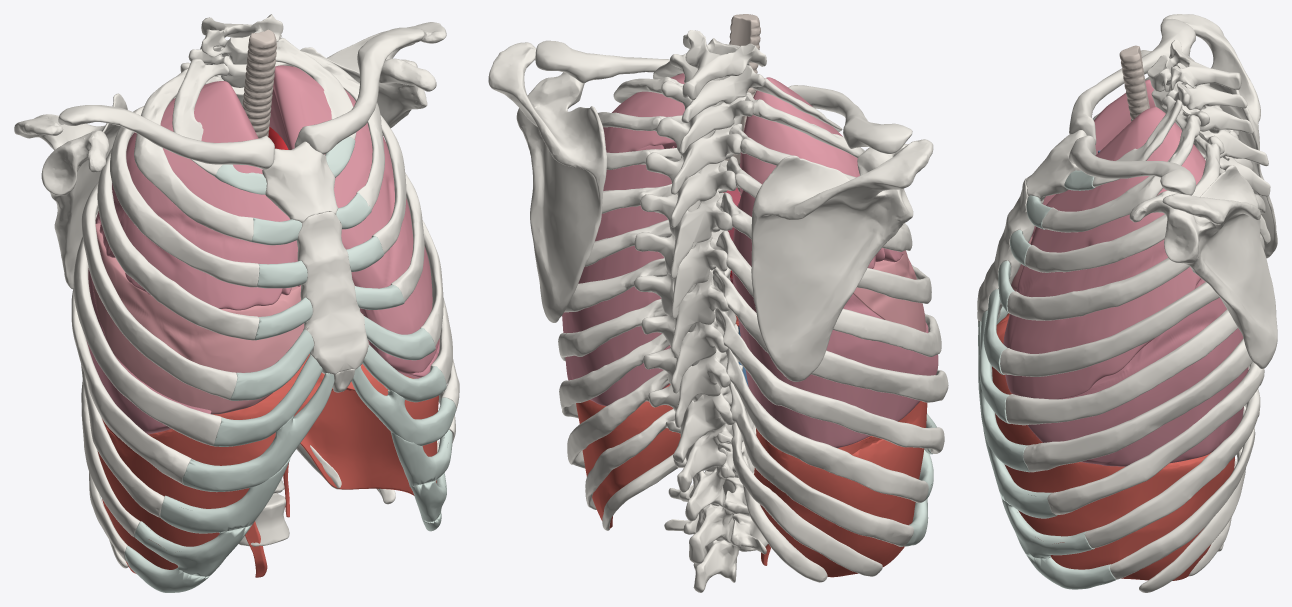
File: torax-completo-lobos-corrigidos.glb
The picture shows the model from 3 angles, left to right: view 1: azimuth 30°, elevation 25°; view 2: azimuth 150°, elevation 25°; view 3: azimuth 270°, elevation 25°; orthographic projection. The views are drawn at different scales.
Visible parts, largest first — view 1: diafragma_face_toracica, lobo_superior_D, lobo_superior_E, lobo_medio_D, sternum_corpo, escapula_D, costela_D_4, costela_D_6, costela_D_5, costela_D_3, costela_D_2, clavicula_D (+38 smaller); view 2: escapula_D, escapula_E, diafragma_face_toracica, lobo_inferior_D, lobo_inferior_E, costela_D_8, costela_D_9, lobo_superior_D, costela_D_10, costela_D_7, costela_D_11, costela_D_6 (+38 smaller); view 3: lobo_superior_E, escapula_E, diafragma_face_toracica, lobo_inferior_E, costela_E_6, costela_E_7, costela_E_5, costela_E_8, costela_E_9, costela_E_4, costela_E_3, escapula_D (+26 smaller).
Part boxes in pixels (bbox=[...]): diafragma_face_toracica: bbox=[97, 354, 438, 577]; lobo_superior_D: bbox=[97, 81, 300, 310]; lobo_superior_E: bbox=[269, 65, 439, 373]; lobo_medio_D: bbox=[93, 223, 304, 414]; sternum_corpo: bbox=[296, 211, 368, 374]; escapula_D: bbox=[14, 93, 127, 289]; costela_D_4: bbox=[97, 132, 259, 340]; costela_D_6: bbox=[73, 211, 221, 445]; costela_D_5: bbox=[81, 182, 237, 400]; costela_D_3: bbox=[110, 97, 259, 287]; costela_D_2: bbox=[134, 69, 253, 241]; clavicula_D: bbox=[58, 105, 274, 169]; escapula_D: bbox=[751, 139, 933, 381]; escapula_E: bbox=[488, 42, 607, 322]; diafragma_face_toracica: bbox=[576, 315, 927, 577]; lobo_inferior_D: bbox=[732, 190, 938, 448]; lobo_inferior_E: bbox=[562, 144, 674, 406]; costela_D_8: bbox=[715, 308, 944, 453]; costela_D_9: bbox=[725, 348, 928, 502]; lobo_superior_D: bbox=[740, 77, 904, 268]; costela_D_10: bbox=[729, 382, 913, 546]; costela_D_7: bbox=[713, 267, 948, 402]; costela_D_11: bbox=[731, 422, 882, 576]; costela_D_6: bbox=[716, 230, 941, 356]; lobo_superior_E: bbox=[1003, 107, 1205, 399]; escapula_E: bbox=[1129, 165, 1277, 368]; diafragma_face_toracica: bbox=[992, 313, 1234, 580]; lobo_inferior_E: bbox=[1027, 278, 1248, 466]; costela_E_6: bbox=[1005, 309, 1237, 425]; costela_E_7: bbox=[1023, 338, 1252, 472]; costela_E_5: bbox=[1000, 282, 1219, 376]; costela_E_8: bbox=[1047, 362, 1264, 514]; costela_E_9: bbox=[1084, 366, 1260, 548]; costela_E_4: bbox=[1007, 168, 1224, 320]; costela_E_3: bbox=[1025, 135, 1220, 272]; escapula_D: bbox=[1141, 14, 1277, 258].
Size of the model in its own units: 0.3329 by 0.4096 by 0.2189.
